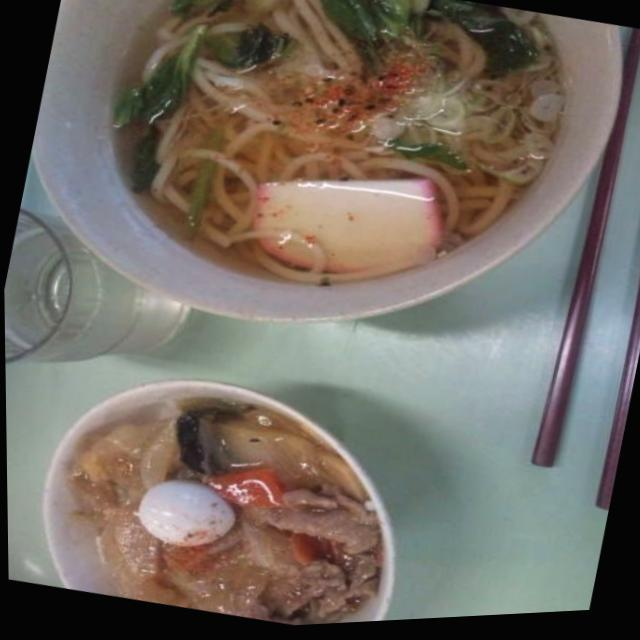面条主食: (82, 0, 595, 348)
